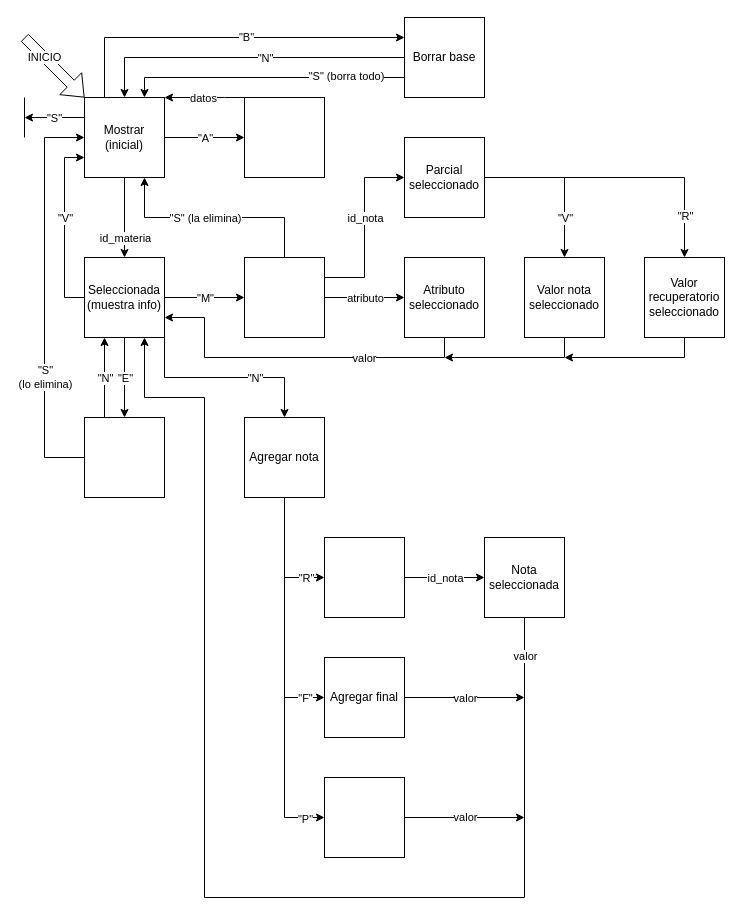
This 742x923 diagram has some shape labels left out. Here are the shapes that lost their labels. From the top down, the box of each, then its label:
(244, 96, 324, 178): Agregar
(244, 256, 324, 338): Modificar
(84, 416, 164, 498): Eliminar
(324, 536, 404, 618): Agregar recuperatorio
(324, 776, 404, 858): Agregar parcial
